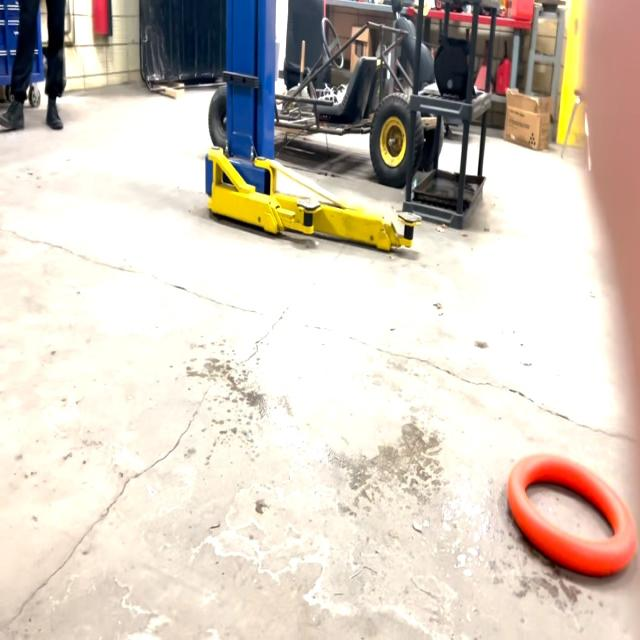note: (504, 437, 639, 583)
